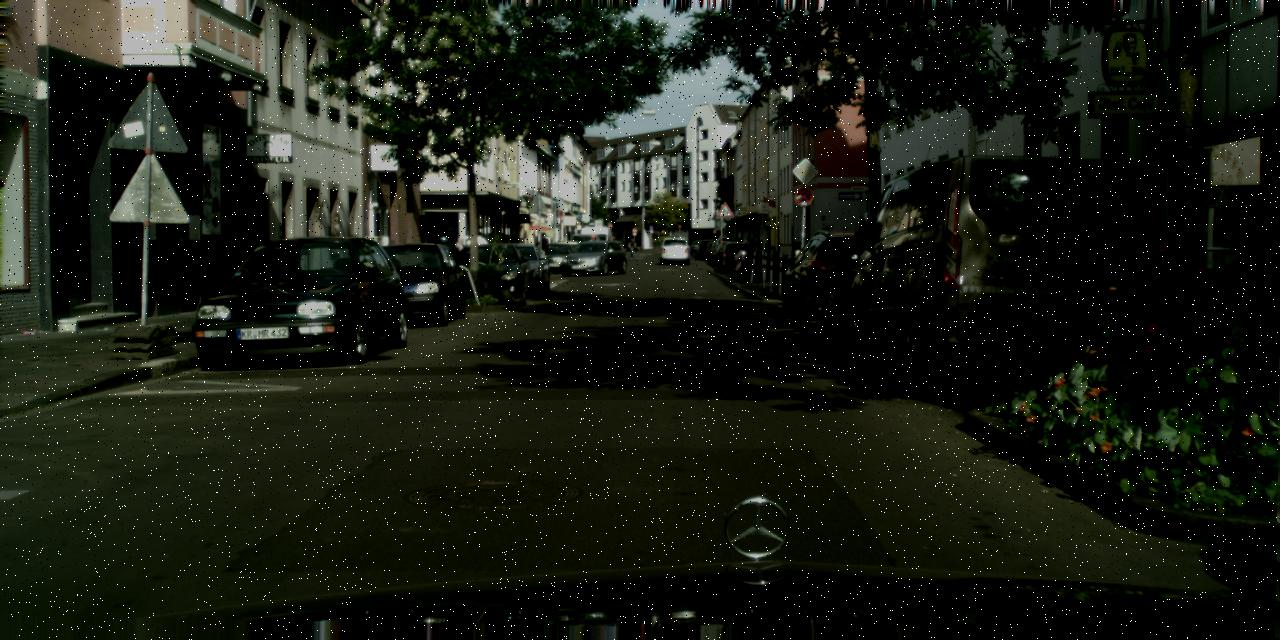ped: (449, 238, 467, 280), (537, 232, 551, 266), (746, 234, 759, 250), (629, 238, 634, 253)
